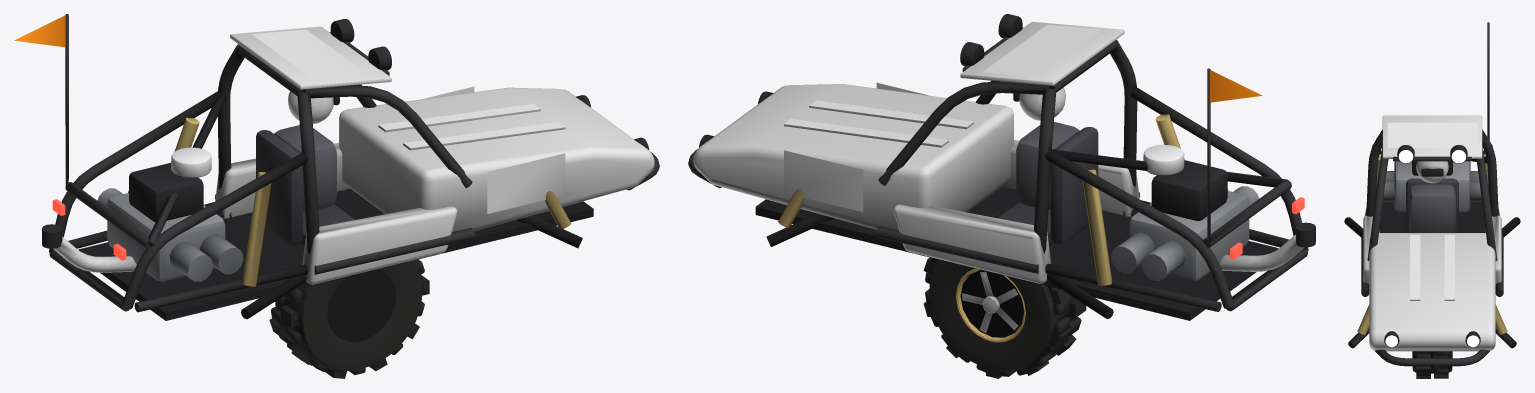
The model's file is buggy.glb.
3 views of the same model, side by side, from view 1: azimuth 30°, elevation 25°; view 2: azimuth 150°, elevation 25°; view 3: azimuth 270°, elevation 25° (orthographic). The views are drawn at different scales.
Visible parts, largest first — view 1: Body, WheelRLOD, WheelR, Whip; view 2: Body, WheelR, WheelRLOD, Whip; view 3: Body, WheelR, Whip, WheelRLOD.
Boxes of the visible parts, x1=… form: Body: x1=42, y1=19, x2=659, y2=320; WheelRLOD: x1=269, y1=260, x2=429, y2=378; WheelR: x1=271, y1=259, x2=426, y2=375; Whip: x1=14, y1=14, x2=68, y2=185; Body: x1=688, y1=14, x2=1315, y2=320; WheelR: x1=925, y1=258, x2=1081, y2=376; WheelRLOD: x1=923, y1=211, x2=1086, y2=378; Whip: x1=1207, y1=68, x2=1262, y2=243; Body: x1=1344, y1=115, x2=1520, y2=366; WheelR: x1=1412, y1=351, x2=1452, y2=376; Whip: x1=1487, y1=22, x2=1489, y2=140; WheelRLOD: x1=1412, y1=351, x2=1452, y2=378.
Size of the model in its own units: 4.72 by 2.91 by 1.73.
